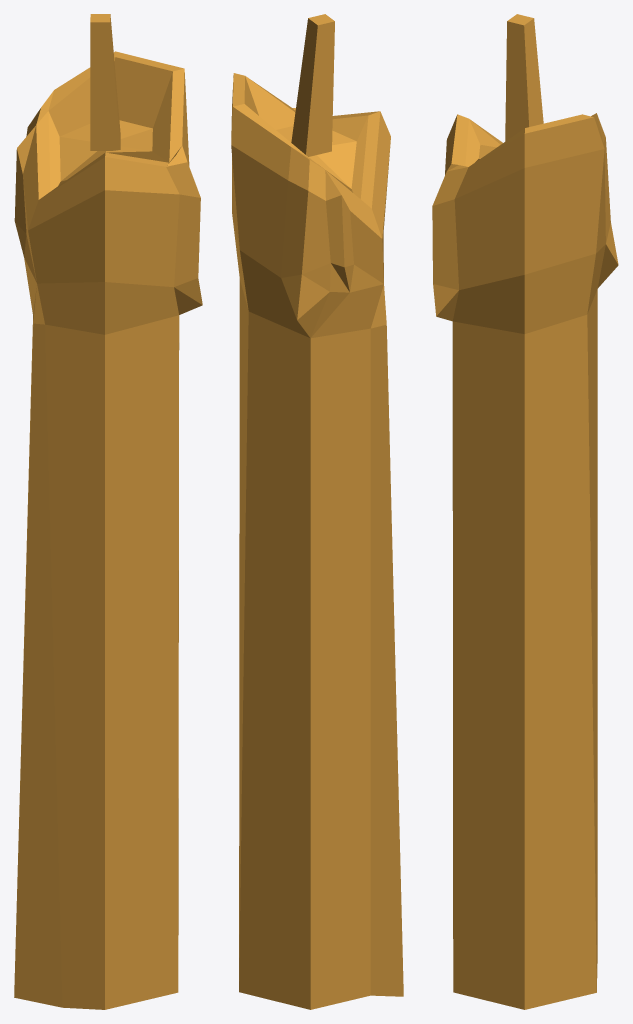
The model's file is candle-stick-b-unlit.fbx.
3 renders of one model, left to right at view 1: azimuth 30°, elevation 25°; view 2: azimuth 150°, elevation 25°; view 3: azimuth 270°, elevation 25°, orthographic.
Visible parts, largest first — view 1: candle-stick-b-unlit; view 2: candle-stick-b-unlit; view 3: candle-stick-b-unlit.
Part boxes in pixels (left/top/right/bottom): candle-stick-b-unlit: left=14, top=14, right=202, bottom=1009; candle-stick-b-unlit: left=231, top=14, right=403, bottom=1009; candle-stick-b-unlit: left=432, top=14, right=618, bottom=1009.
Bounding box in the file's own units: 0.0424 × 0.2255 × 0.04.
